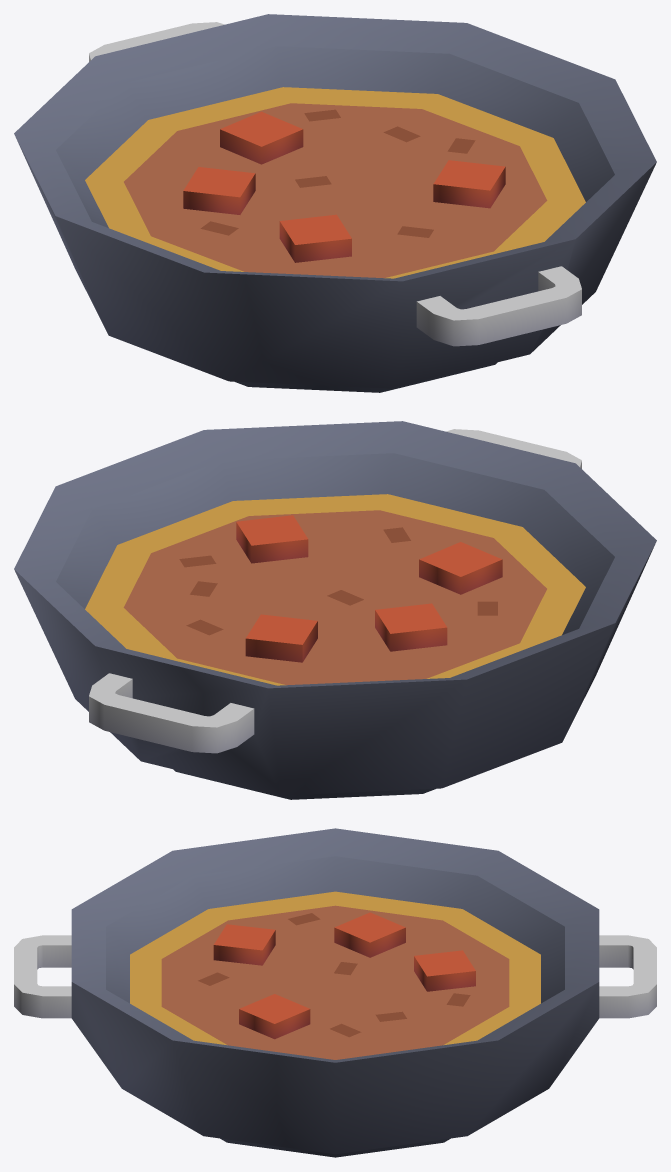
Rendered from KF_pan-stew.glb.
The picture shows the model from 3 angles, top to bottom: view 1: azimuth 30°, elevation 25°; view 2: azimuth 150°, elevation 25°; view 3: azimuth 270°, elevation 25°; orthographic projection. The views are drawn at different scales.
Parts seen in each view (by area): view 1: pan-stew; view 2: pan-stew; view 3: pan-stew.
Boxes of the visible parts, bbox=[...] form: pan-stew: bbox=[14, 14, 656, 392]; pan-stew: bbox=[14, 421, 656, 799]; pan-stew: bbox=[14, 828, 656, 1157].
Size of the model in its own units: 0.6574 by 0.1754 by 0.7621.
